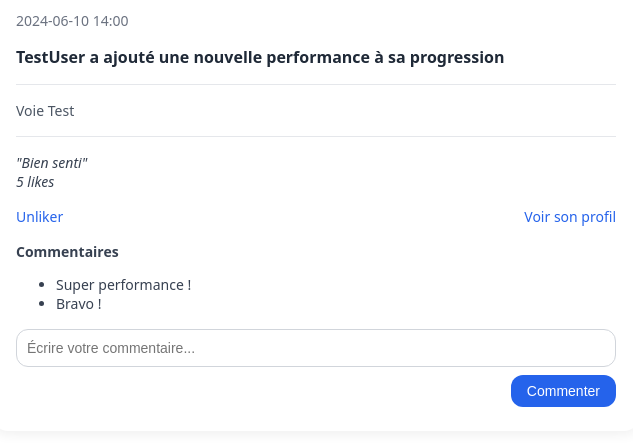
ajout de commentaire valide appelle fetch et nettoie le champ
In the field with placeholder "Écrire votre commentaire...": coordinates (316, 348) x1=16 y1=329 x2=616 y2=367, type "Nouveau commentaire"
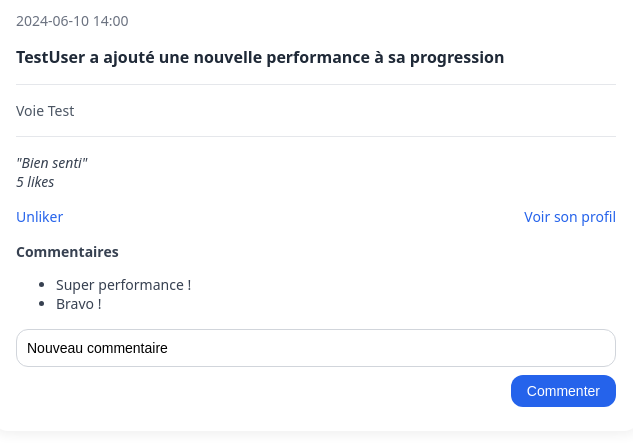
Click the button "Commenter": coordinates (563, 391) x1=511 y1=375 x2=616 y2=407
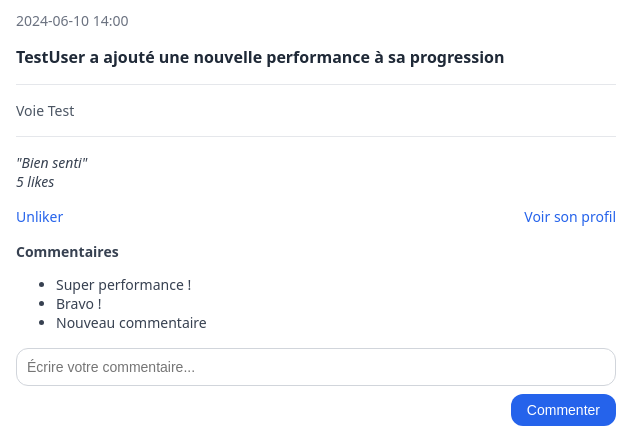
Now the field with placeholder "Écrire votre commentaire..." is empty, box x1=16 y1=348 x2=616 y2=386
Now the list item "Nouveau commentaire" is shown, box x1=56 y1=313 x2=207 y2=332
